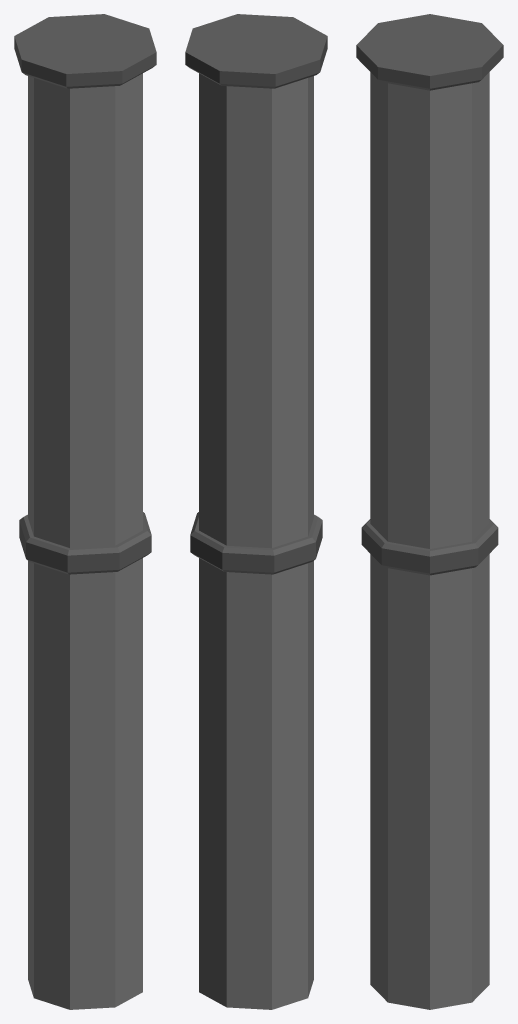
The model's file is model_pipe_kit_straight_02.fbx.
3 renders of one model, left to right at view 1: azimuth 30°, elevation 25°; view 2: azimuth 150°, elevation 25°; view 3: azimuth 270°, elevation 25°, orthographic.
Visible parts, largest first — view 1: model_pipe_kit_straight_02; view 2: model_pipe_kit_straight_02; view 3: model_pipe_kit_straight_02.
Boxes of the visible parts, x1,y1,x2,y2 form: model_pipe_kit_straight_02: (14, 14, 156, 1009); model_pipe_kit_straight_02: (185, 14, 327, 1009); model_pipe_kit_straight_02: (356, 14, 503, 1009).
Size of the model in its own units: 28.36 by 200 by 28.36.
Materials: 1 (1 with a texture image).
